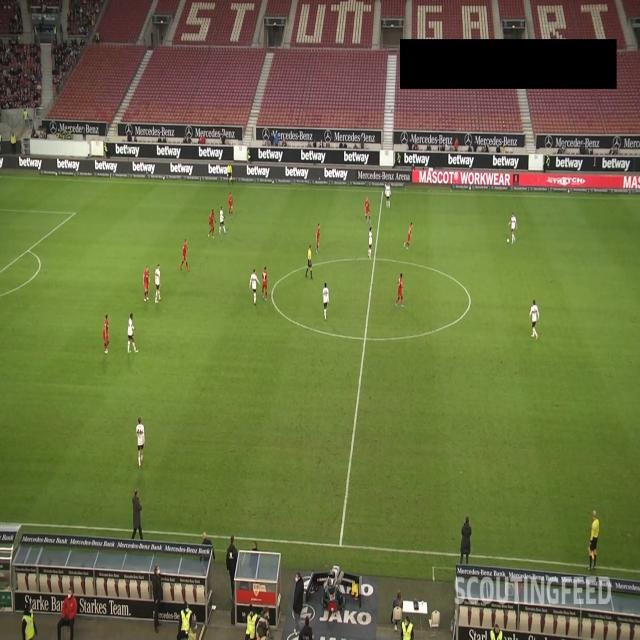ball: (506, 238, 510, 244)
